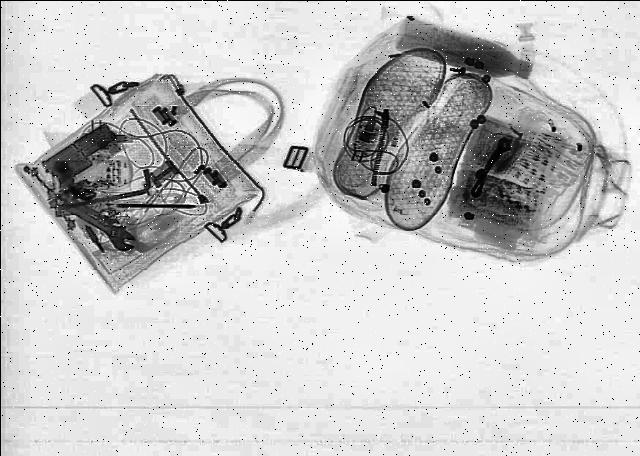Wrench: (39, 189, 144, 255), (53, 192, 119, 231)
